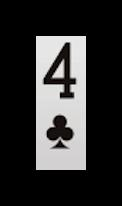4C: (39, 38, 82, 156)
